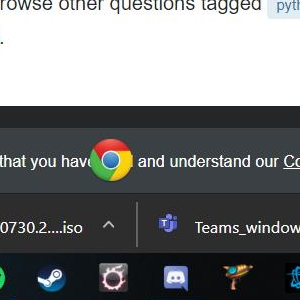chrome: (90, 138, 132, 182)
